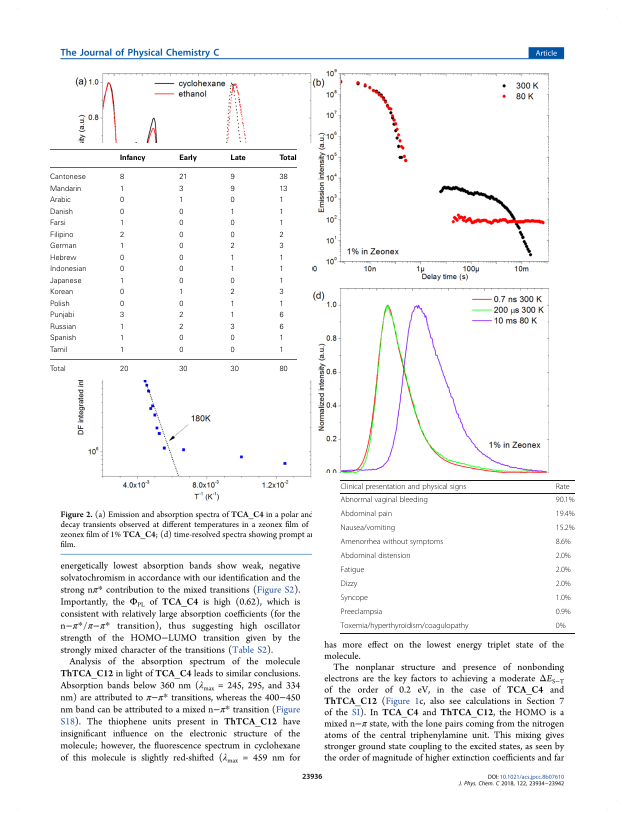borderless: (48, 148, 298, 374), (339, 478, 575, 633)
cell: (339, 621, 469, 631), (340, 482, 467, 491), (340, 537, 444, 547), (340, 495, 429, 505), (340, 551, 412, 561), (340, 523, 396, 533), (340, 509, 393, 519), (340, 607, 383, 617), (49, 265, 87, 274), (49, 173, 86, 182), (49, 185, 82, 194), (49, 277, 82, 286), (340, 593, 369, 603), (118, 154, 146, 163), (49, 242, 77, 251), (49, 254, 77, 263), (49, 323, 77, 332), (49, 334, 77, 343), (340, 565, 365, 575), (49, 311, 75, 320), (49, 231, 74, 240), (49, 288, 74, 297), (49, 208, 73, 217), (555, 495, 575, 505), (555, 509, 575, 519), (555, 523, 575, 533), (49, 196, 71, 205), (49, 300, 70, 309), (340, 579, 358, 589), (178, 154, 197, 163), (278, 154, 297, 163), (49, 346, 68, 355), (555, 537, 572, 547), (555, 551, 572, 561), (555, 565, 572, 575), (555, 579, 572, 589), (555, 593, 572, 603), (555, 607, 572, 617), (229, 154, 246, 163), (49, 219, 66, 228), (49, 365, 66, 374), (555, 482, 571, 491), (555, 621, 566, 631), (118, 365, 129, 374), (178, 173, 188, 182), (278, 173, 288, 182), (278, 185, 288, 194), (178, 365, 188, 374), (229, 365, 239, 374), (278, 365, 288, 374), (118, 173, 125, 182), (118, 185, 125, 194), (118, 196, 125, 205), (118, 208, 125, 217), (118, 219, 125, 228), (118, 231, 125, 240), (118, 242, 125, 251), (118, 254, 125, 263), (118, 265, 125, 274), (118, 277, 125, 286), (118, 288, 125, 297), (118, 300, 125, 309), (118, 311, 125, 320), (118, 323, 125, 332), (118, 334, 125, 343), (118, 346, 125, 355), (229, 173, 235, 182), (178, 185, 184, 194), (229, 185, 235, 194), (178, 196, 184, 205), (229, 196, 235, 205), (278, 196, 284, 205), (178, 208, 184, 217), (229, 208, 235, 217), (278, 208, 284, 217), (178, 219, 184, 228), (229, 219, 235, 228), (278, 219, 284, 228), (178, 231, 184, 240), (229, 231, 235, 240), (278, 231, 284, 240), (178, 242, 184, 251), (229, 242, 235, 251), (278, 242, 284, 251), (178, 254, 184, 263), (229, 254, 235, 263), (278, 254, 284, 263), (178, 265, 184, 274), (229, 265, 235, 274), (278, 265, 284, 274), (178, 277, 184, 286), (229, 277, 235, 286), (278, 277, 284, 286), (178, 288, 184, 297), (229, 288, 235, 297), (278, 288, 284, 297), (178, 300, 184, 309), (229, 300, 235, 309), (278, 300, 284, 309), (178, 311, 184, 320), (229, 311, 235, 320), (278, 311, 284, 320), (178, 323, 184, 332), (229, 323, 235, 332), (278, 323, 284, 332), (178, 334, 184, 343), (229, 334, 235, 343), (278, 334, 284, 343), (178, 346, 184, 355), (229, 346, 235, 355), (278, 346, 284, 355)
